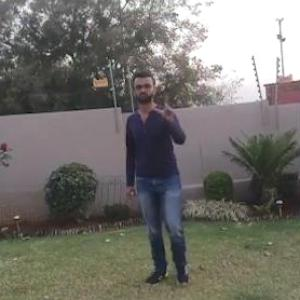land_hand: (153, 85, 184, 123)
